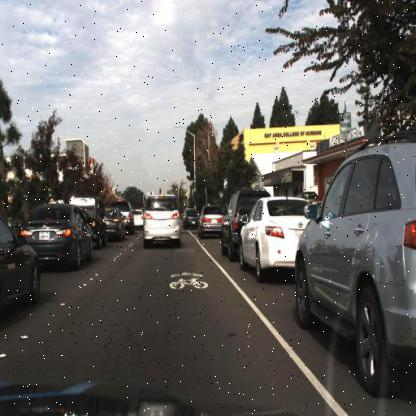car: (291, 131, 415, 398), (238, 188, 297, 291), (35, 196, 98, 282), (0, 204, 42, 311), (140, 183, 182, 251), (217, 187, 240, 264), (89, 185, 107, 255), (197, 199, 224, 242), (100, 201, 124, 247), (182, 202, 199, 231), (123, 201, 135, 239), (131, 207, 144, 231)
